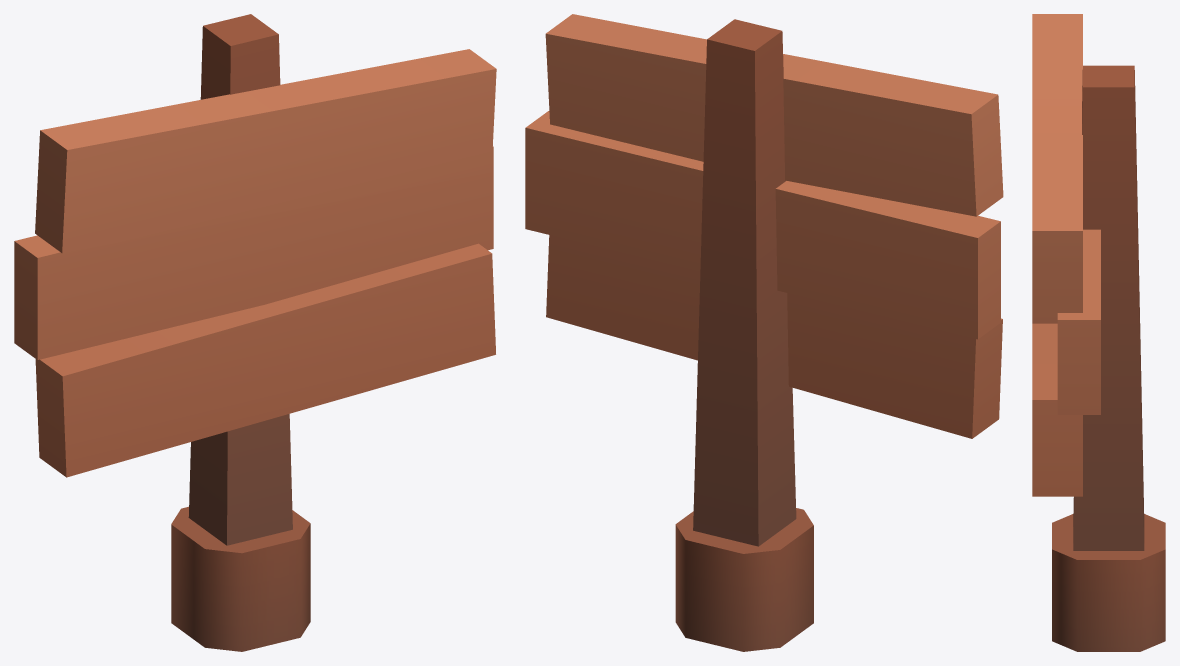
File: sign.glb
3 views of the same model, side by side, from view 1: azimuth 30°, elevation 25°; view 2: azimuth 150°, elevation 25°; view 3: azimuth 270°, elevation 25° (orthographic). The views are drawn at different scales.
Visible parts, largest first — view 1: sign; view 2: sign; view 3: sign.
Part boxes in pixels (bbox=[...]): sign: bbox=[14, 14, 496, 651]; sign: bbox=[525, 14, 1003, 651]; sign: bbox=[1032, 14, 1165, 651].
Bounding box in the file's own units: 0.4835 × 0.6 × 0.1314.
Materials: 1 (1 with a texture image).
